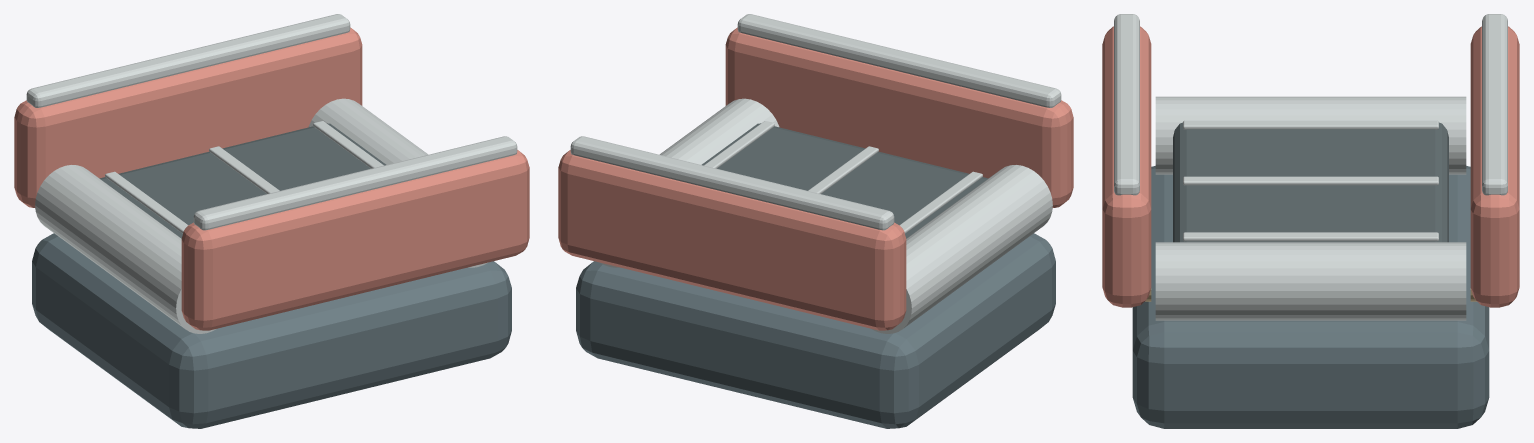
The model's file is conveyor_module.glb.
3 views of the same model, side by side, from view 1: azimuth 30°, elevation 25°; view 2: azimuth 150°, elevation 25°; view 3: azimuth 270°, elevation 25° (orthographic). The views are drawn at different scales.
Visible parts, largest first — view 1: ASSET_CONVEYOR_Deck, ASSET_CONVEYOR_Rail_-1, ASSET_CONVEYOR_Rail_1, ASSET_CONVEYOR_Roller_-1, ASSET_CONVEYOR_Belt, ASSET_CONVEYOR_RailCap_1, ASSET_CONVEYOR_RailCap_-1, ASSET_CONVEYOR_Roller_1, ASSET_CONVEYOR_Tread_-0.23, ASSET_CONVEYOR_Tread_0.0, ASSET_CONVEYOR_Tread_0.23; view 2: ASSET_CONVEYOR_Deck, ASSET_CONVEYOR_Rail_1, ASSET_CONVEYOR_Rail_-1, ASSET_CONVEYOR_Roller_-1, ASSET_CONVEYOR_Belt, ASSET_CONVEYOR_RailCap_1, ASSET_CONVEYOR_RailCap_-1, ASSET_CONVEYOR_Roller_1, ASSET_CONVEYOR_Tread_-0.23, ASSET_CONVEYOR_Tread_0.0, ASSET_CONVEYOR_Tread_0.23; view 3: ASSET_CONVEYOR_Deck, ASSET_CONVEYOR_Belt, ASSET_CONVEYOR_Roller_1, ASSET_CONVEYOR_Roller_-1, ASSET_CONVEYOR_Rail_1, ASSET_CONVEYOR_Rail_-1, ASSET_CONVEYOR_RailCap_1, ASSET_CONVEYOR_RailCap_-1, ASSET_CONVEYOR_Tread_0.0, ASSET_CONVEYOR_Tread_0.23, ASSET_CONVEYOR_Tread_-0.23.
Part boxes in pixels (<box>): ASSET_CONVEYOR_Deck: <box>32,233,511,428</box>; ASSET_CONVEYOR_Rail_-1: <box>181,150,529,330</box>; ASSET_CONVEYOR_Rail_1: <box>14,27,362,207</box>; ASSET_CONVEYOR_Roller_-1: <box>35,165,215,333</box>; ASSET_CONVEYOR_Belt: <box>99,123,386,238</box>; ASSET_CONVEYOR_RailCap_1: <box>26,14,350,107</box>; ASSET_CONVEYOR_RailCap_-1: <box>193,136,517,230</box>; ASSET_CONVEYOR_Roller_1: <box>308,98,487,267</box>; ASSET_CONVEYOR_Tread_-0.23: <box>105,171,188,233</box>; ASSET_CONVEYOR_Tread_0.0: <box>209,146,279,193</box>; ASSET_CONVEYOR_Tread_0.23: <box>313,121,383,168</box>; ASSET_CONVEYOR_Deck: <box>576,233,1055,428</box>; ASSET_CONVEYOR_Rail_1: <box>558,150,906,330</box>; ASSET_CONVEYOR_Rail_-1: <box>725,27,1073,207</box>; ASSET_CONVEYOR_Roller_-1: <box>872,165,1052,333</box>; ASSET_CONVEYOR_Belt: <box>701,123,988,238</box>; ASSET_CONVEYOR_RailCap_1: <box>570,136,894,230</box>; ASSET_CONVEYOR_RailCap_-1: <box>737,14,1061,107</box>; ASSET_CONVEYOR_Roller_1: <box>600,98,779,267</box>; ASSET_CONVEYOR_Tread_-0.23: <box>899,171,982,233</box>; ASSET_CONVEYOR_Tread_0.0: <box>808,146,878,193</box>; ASSET_CONVEYOR_Tread_0.23: <box>704,121,774,168</box>; ASSET_CONVEYOR_Deck: <box>1132,166,1489,428</box>; ASSET_CONVEYOR_Belt: <box>1173,122,1448,242</box>; ASSET_CONVEYOR_Roller_1: <box>1155,242,1466,320</box>; ASSET_CONVEYOR_Roller_-1: <box>1155,96,1466,174</box>; ASSET_CONVEYOR_Rail_1: <box>1470,26,1519,307</box>; ASSET_CONVEYOR_Rail_-1: <box>1102,26,1151,307</box>; ASSET_CONVEYOR_RailCap_1: <box>1482,14,1507,195</box>; ASSET_CONVEYOR_RailCap_-1: <box>1114,14,1139,195</box>; ASSET_CONVEYOR_Tread_0.0: <box>1183,176,1438,185</box>; ASSET_CONVEYOR_Tread_0.23: <box>1183,232,1438,241</box>; ASSET_CONVEYOR_Tread_-0.23: <box>1183,120,1438,129</box>.
Size of the model in its own units: 0.75 by 0.4825 by 0.725.
